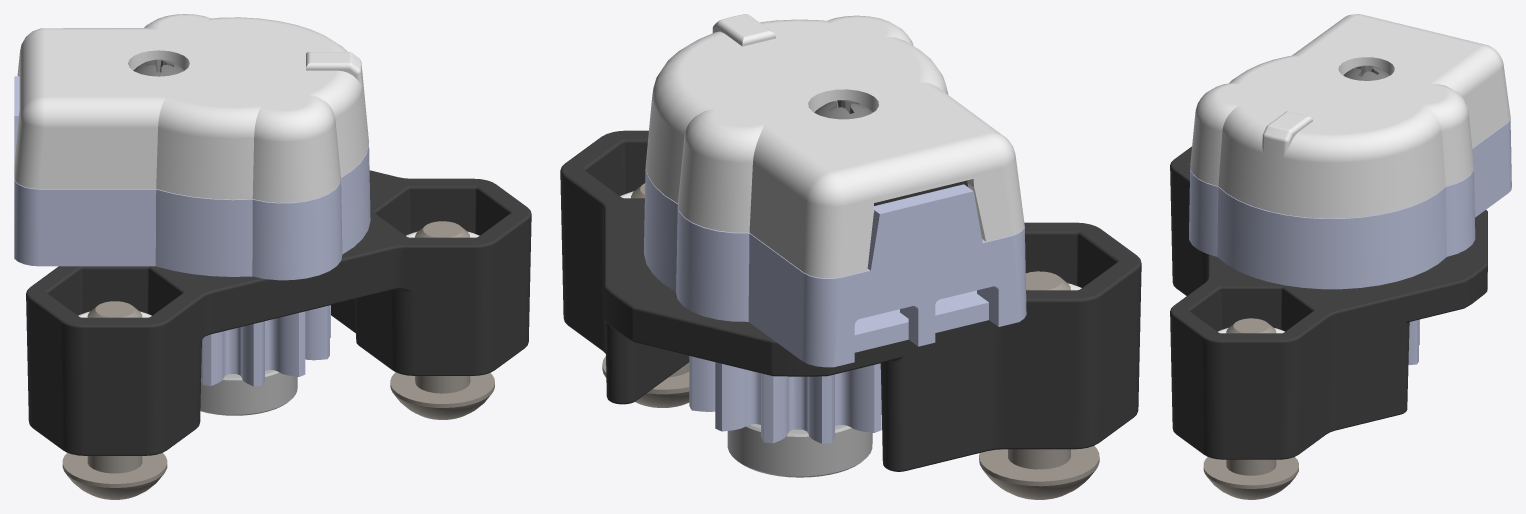
The model's file is Ball Shifter Mag Encoder Mount Kit Assembly (217-5906).FBX.
The picture shows the model from 3 angles, left to right: view 1: azimuth 30°, elevation 25°; view 2: azimuth 150°, elevation 25°; view 3: azimuth 270°, elevation 25°; orthographic projection. The views are drawn at different scales.
Parts seen in each view (by area): view 1: Ball Shifter Mag Encoder Mount Kit Assembly (217-5906).step (×6), Ball Shifter Mag Encoder Mount Kit Assembly (217-5906).step[ (×2); view 2: Ball Shifter Mag Encoder Mount Kit Assembly (217-5906).step (×6), Ball Shifter Mag Encoder Mount Kit Assembly (217-5906).step[ (×2); view 3: Ball Shifter Mag Encoder Mount Kit Assembly (217-5906).step (×5), Ball Shifter Mag Encoder Mount Kit Assembly (217-5906).step[.
Boxes of the visible parts, x1=… form: Ball Shifter Mag Encoder Mount Kit Assembly (217-5906).step (×6): x1=14, y1=14, x2=531, y2=499; Ball Shifter Mag Encoder Mount Kit Assembly (217-5906).step[ (×2): x1=200, y1=305, x2=330, y2=415; Ball Shifter Mag Encoder Mount Kit Assembly (217-5906).step (×6): x1=560, y1=14, x2=1141, y2=499; Ball Shifter Mag Encoder Mount Kit Assembly (217-5906).step[ (×2): x1=689, y1=356, x2=881, y2=477; Ball Shifter Mag Encoder Mount Kit Assembly (217-5906).step (×5): x1=1170, y1=14, x2=1511, y2=499; Ball Shifter Mag Encoder Mount Kit Assembly (217-5906).step[: x1=1408, y1=319, x2=1419, y2=365.
Size of the model in its own units: 4.08 by 2.99 by 2.83.
